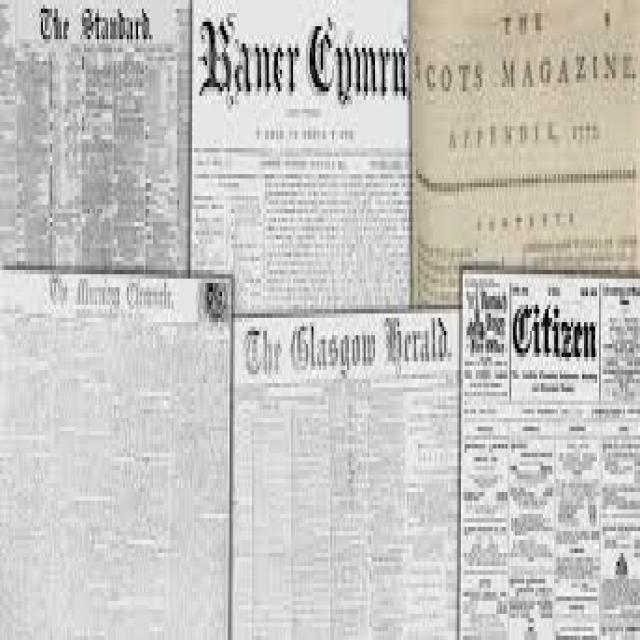paper: (0, 3, 633, 640)
